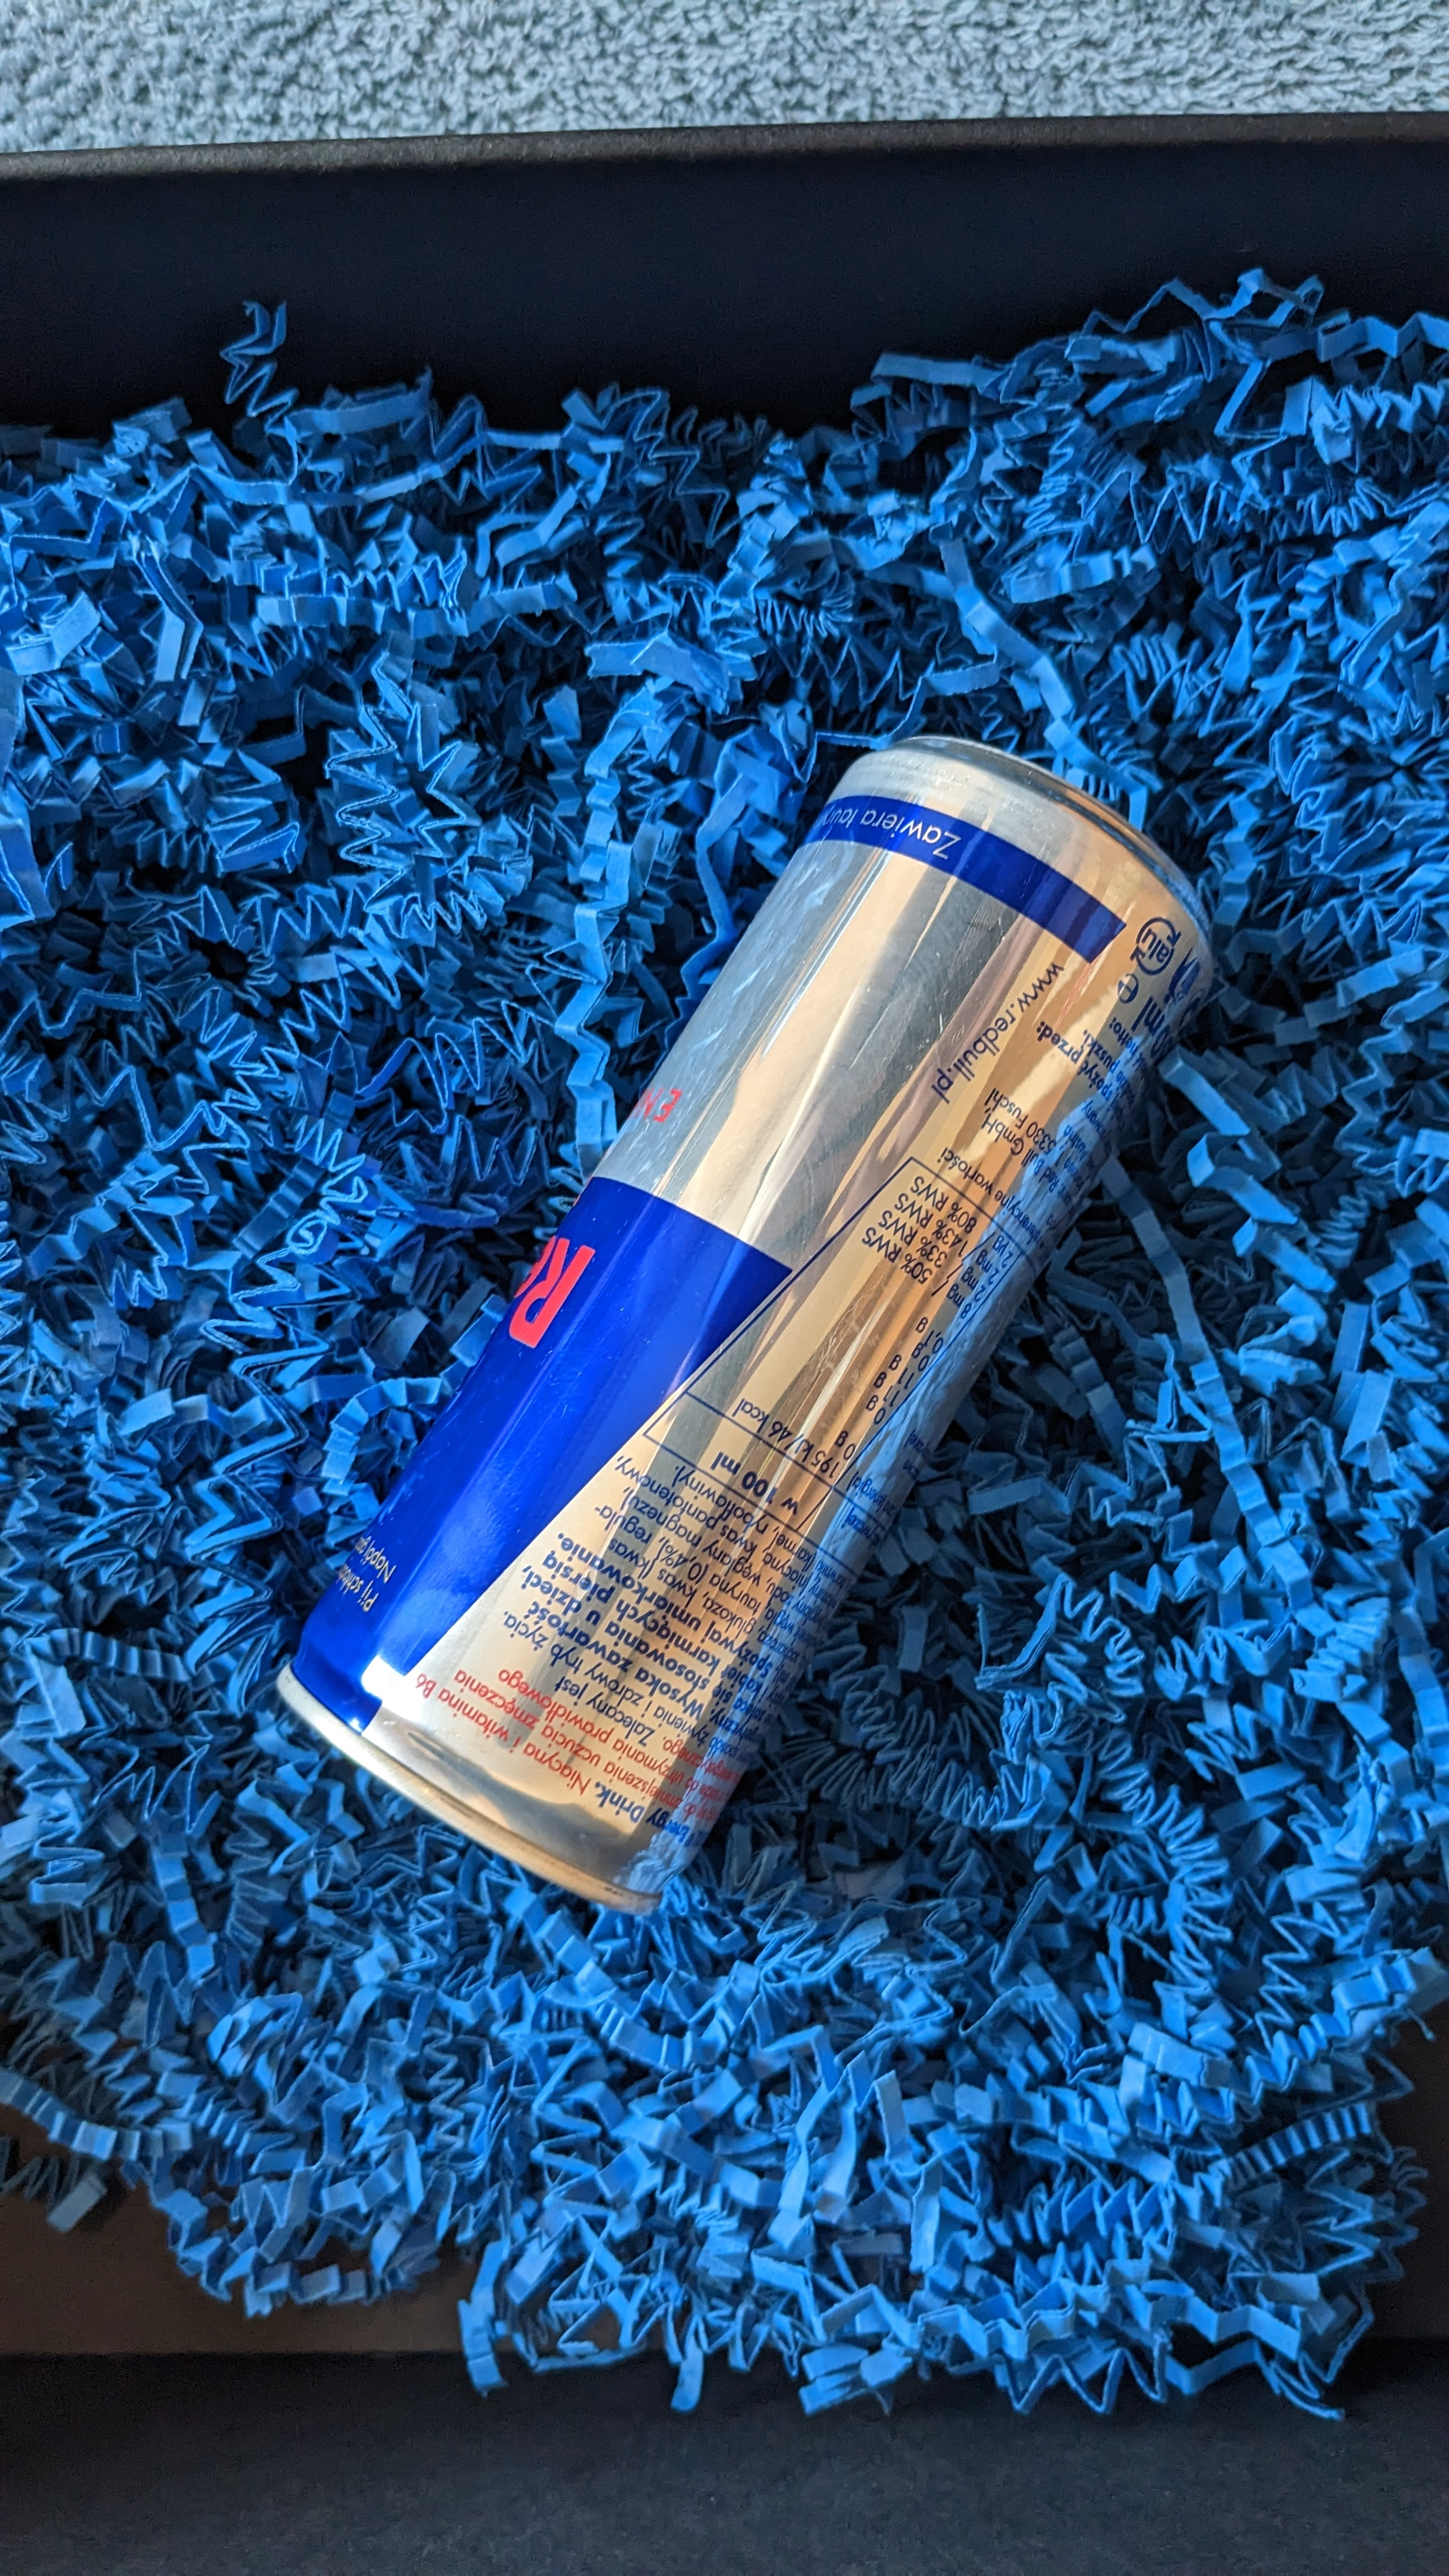red-bull: (260, 709, 1247, 1918)
